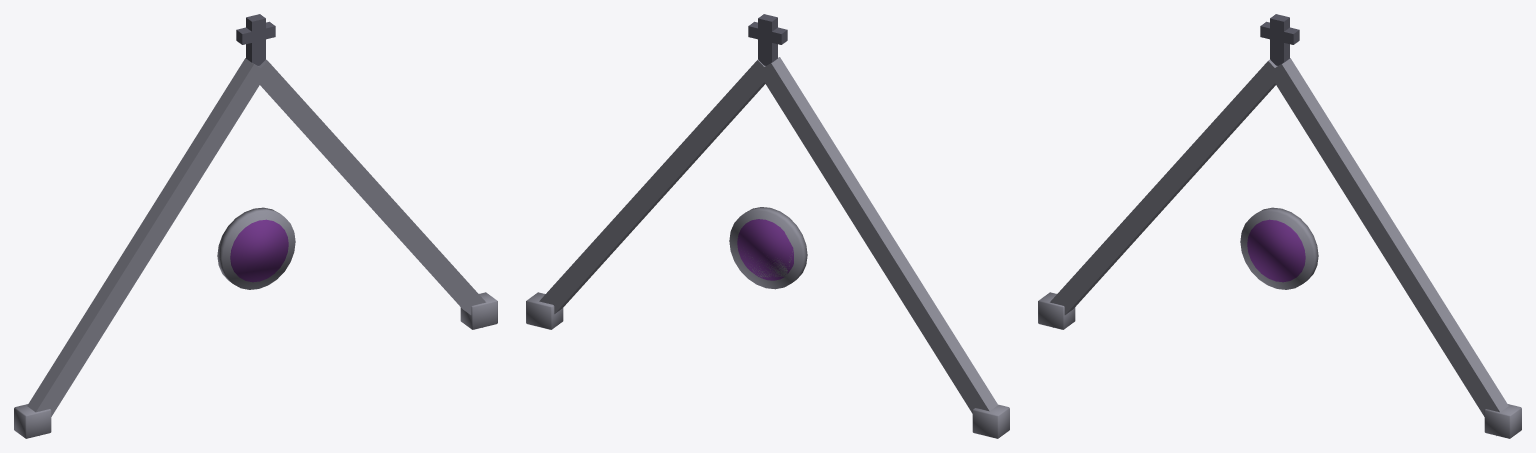
Rendered from kit_church_gable_w5.glb.
3 renders of one model, left to right at view 1: azimuth 30°, elevation 25°; view 2: azimuth 150°, elevation 25°; view 3: azimuth 330°, elevation 25°, orthographic.
Visible parts, largest first — view 1: kit_church_gable_w5; view 2: kit_church_gable_w5; view 3: kit_church_gable_w5.
Part boxes in pixels (x1,y1,x2,y2): kit_church_gable_w5: (14, 14, 497, 438); kit_church_gable_w5: (526, 14, 1009, 438); kit_church_gable_w5: (1038, 14, 1521, 438).
Bounding box in the file's own units: 5.42 × 3.95 × 0.24.
